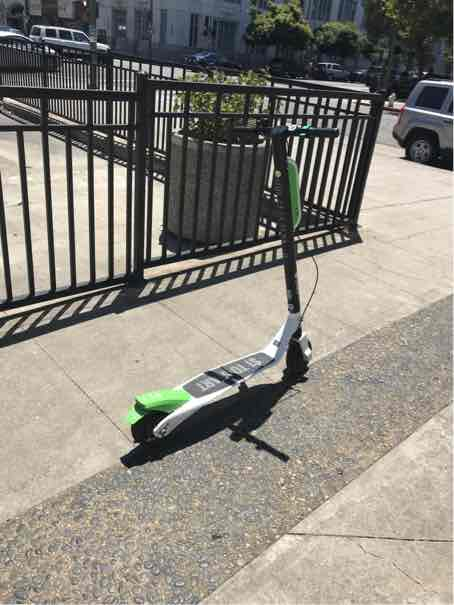scooter: (117, 93, 359, 463)
